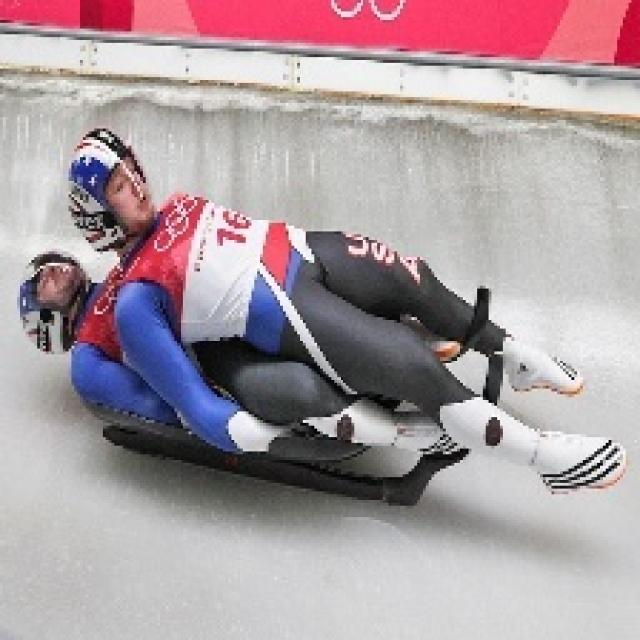luge: (14, 108, 632, 511)
